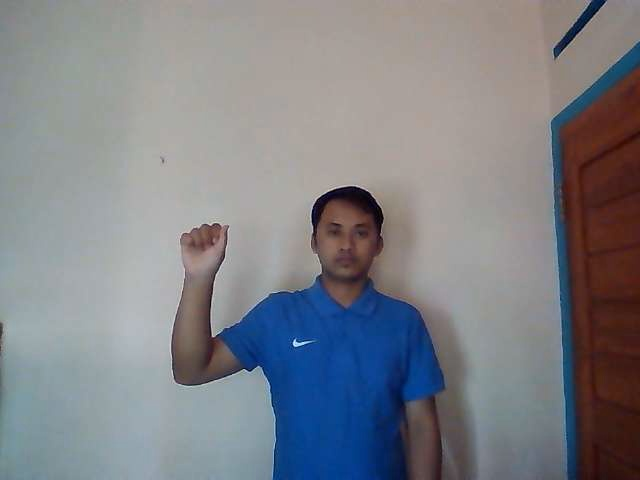A: (179, 221, 230, 272)
